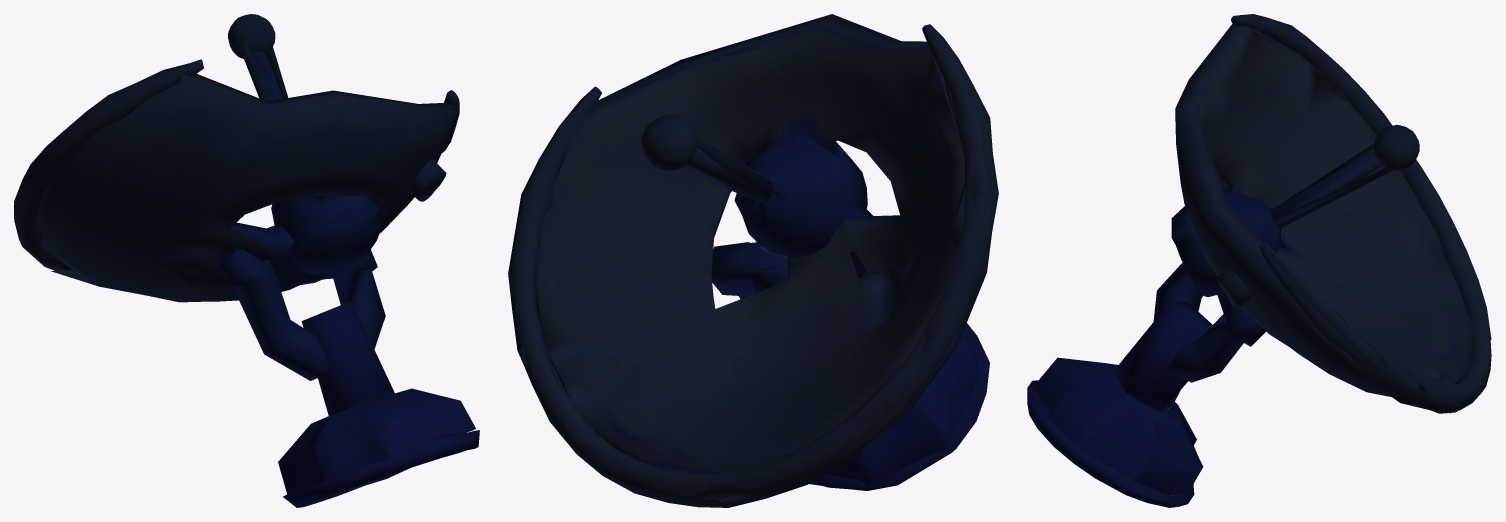
Rendered from antenna.glb.
3 views of the same model, side by side, from view 1: azimuth 30°, elevation 25°; view 2: azimuth 150°, elevation 25°; view 3: azimuth 270°, elevation 25° (orthographic). The views are drawn at different scales.
Visible parts, largest first — view 1: antenna; view 2: antenna; view 3: antenna.
Part boxes in pixels (x1,y1,x2,y2): antenna: [14, 14, 479, 507]; antenna: [508, 14, 998, 507]; antenna: [1027, 14, 1491, 507].
Bounding box in the file's own units: 0.9648 × 1 × 0.9961.
Materials: 1 (1 with a texture image).
